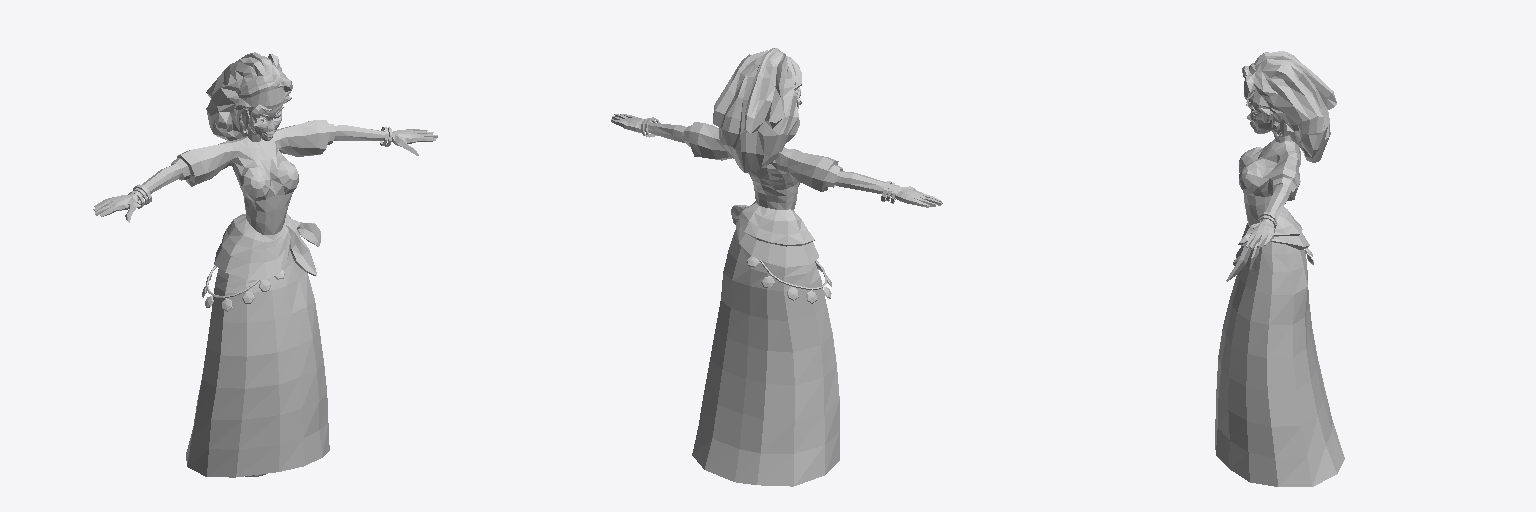
The model's file is pose006.obj.
3 views of the same model, side by side, from view 1: azimuth 30°, elevation 25°; view 2: azimuth 150°, elevation 25°; view 3: azimuth 270°, elevation 25° (orthographic).
Parts seen in each view (by area): view 1: Peasant_girl; view 2: Peasant_girl; view 3: Peasant_girl.
Part boxes in pixels (x1,y1,x2,y2): Peasant_girl: (93,52,437,477); Peasant_girl: (611,48,942,486); Peasant_girl: (1215,51,1344,486).
Size of the model in its own units: 175 by 202 by 58.91.